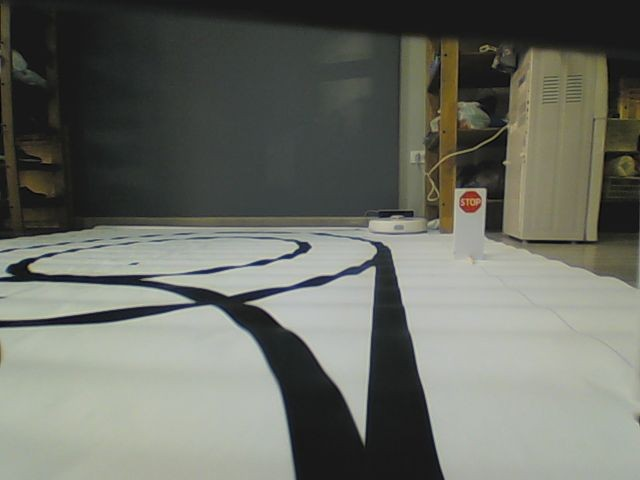Stop: (457, 190, 483, 214)
